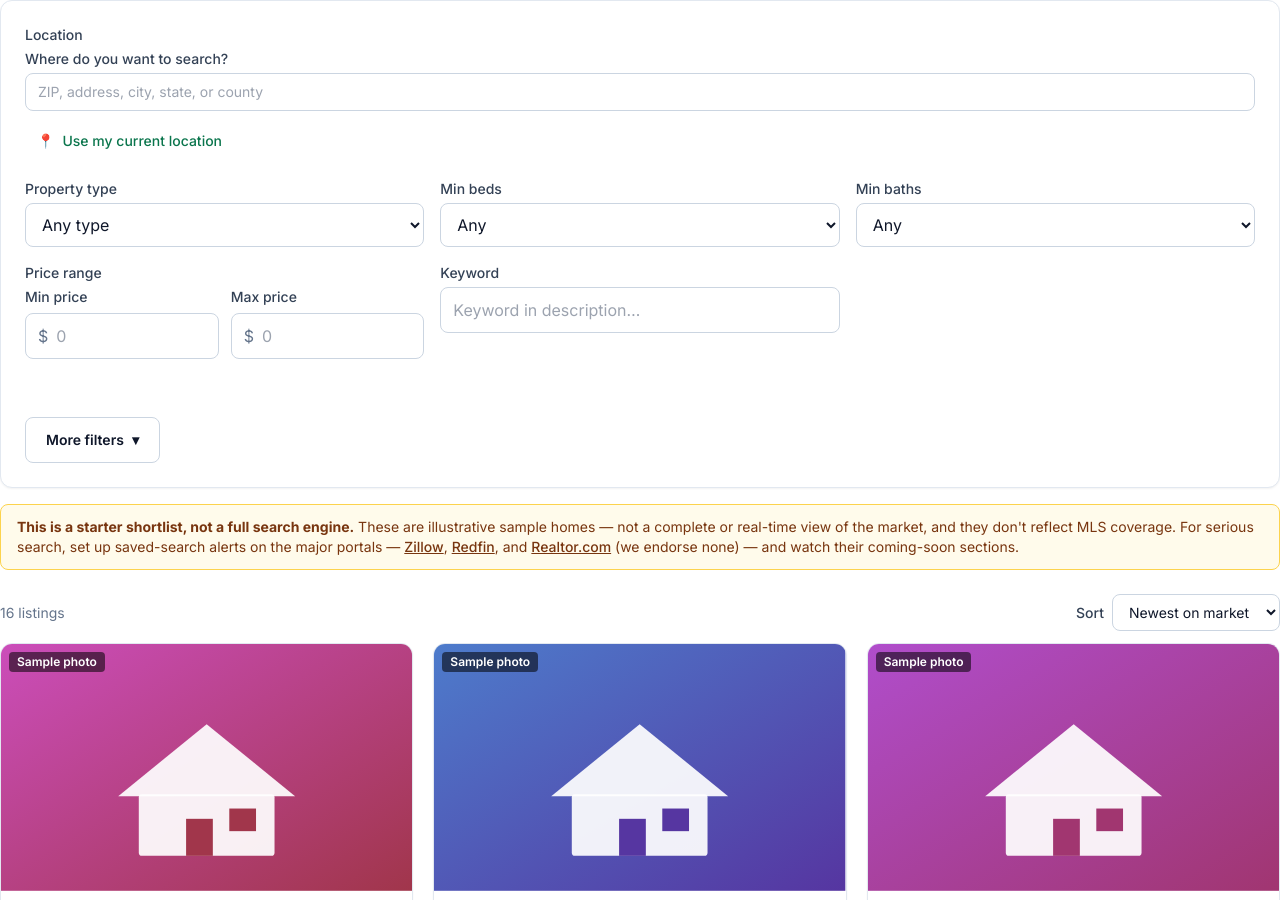
Test: ListingsBrowser › applying a sqft min narrows results and shows a removable chip
The image size is (1280, 900).
# Expand the collapsible "More filters" panel, then set a high sqft min.
Click the button "More filters ▾".
click(92, 440)  # box [25,417,160,463]
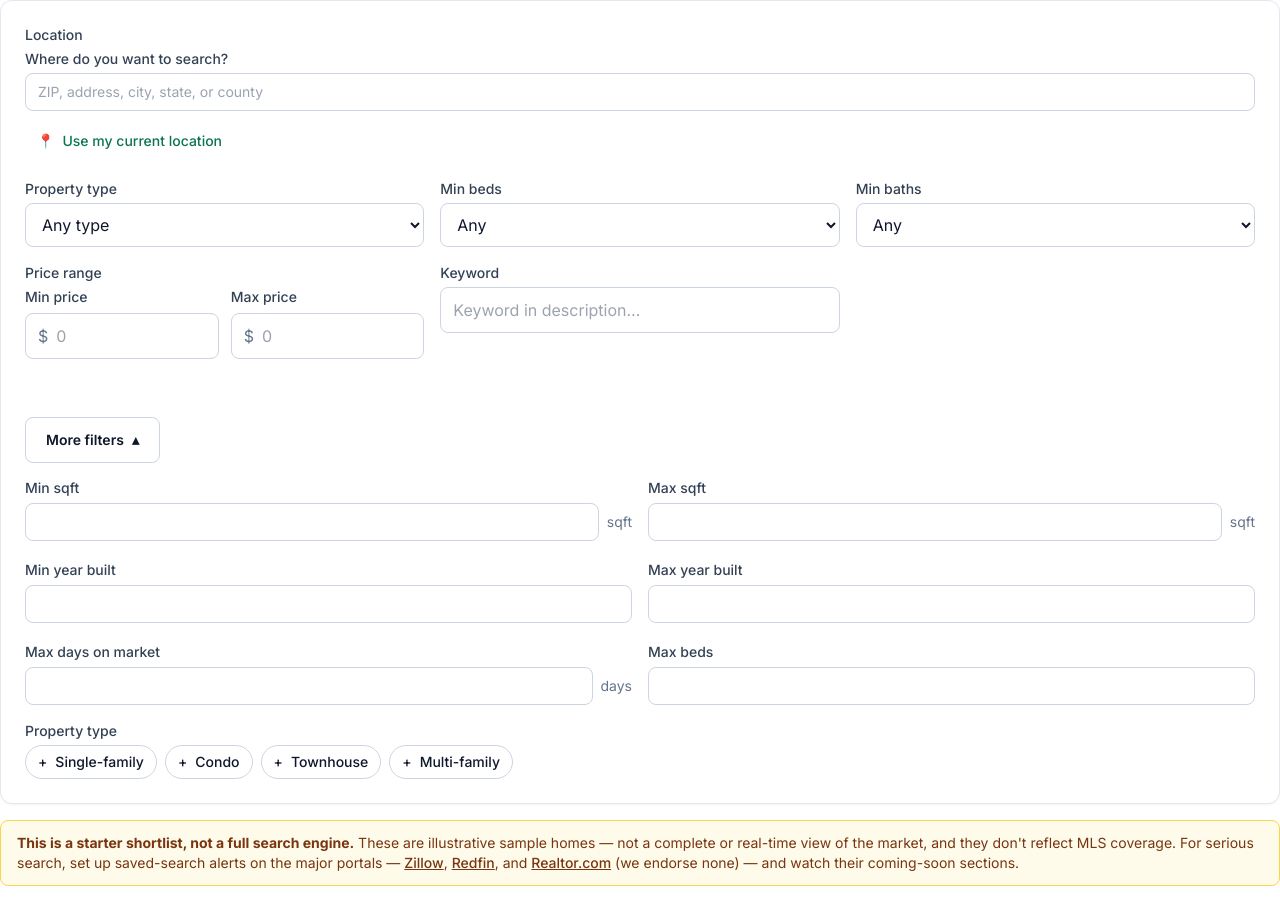
Type "2000" into the number field labelled "Min sqft".
click(312, 522); type("2000")  # box [25,503,599,541]
(page scrolled)
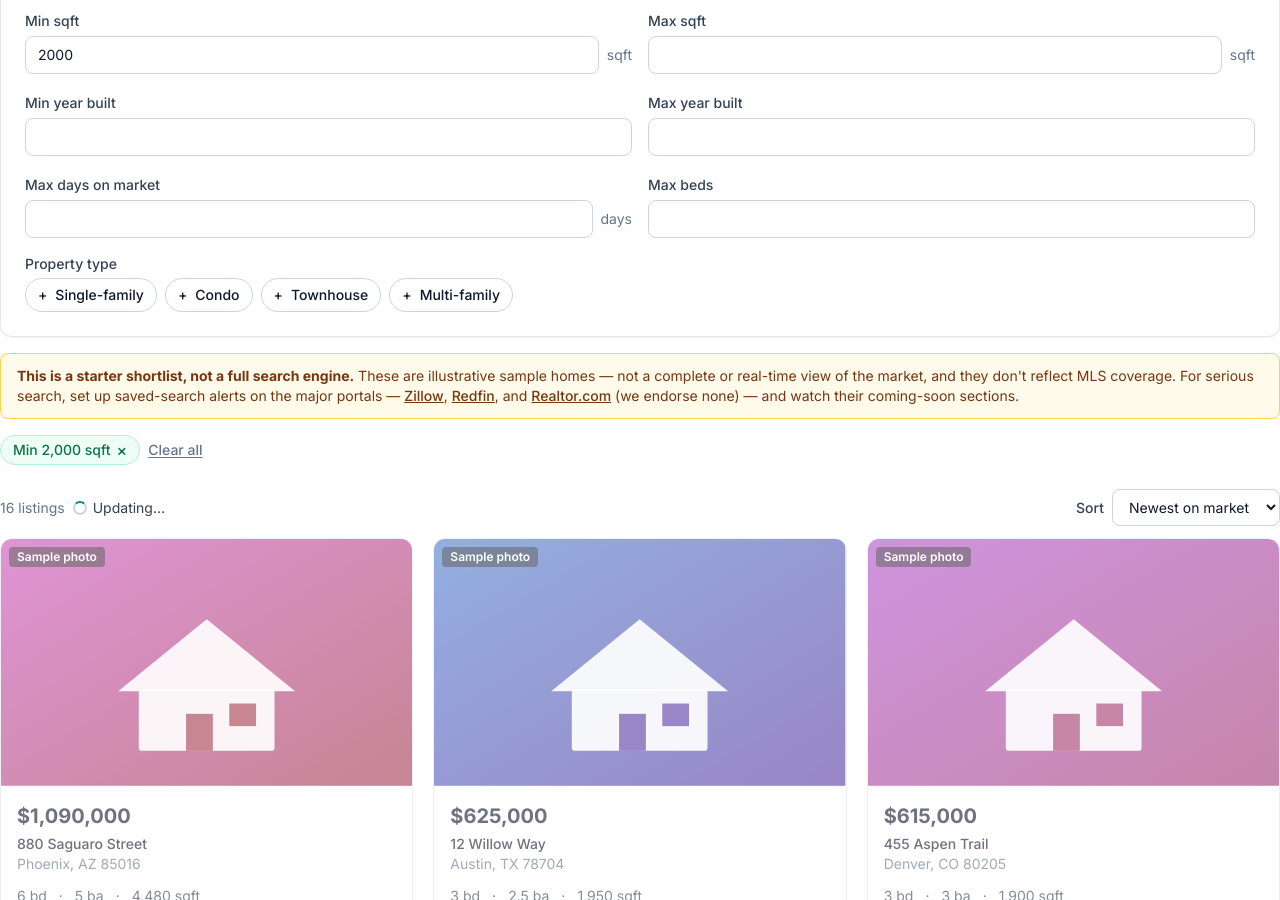
Expected: the text "Min 2,000 sqft" is shown, [13,440,111,460]
Click the button with aria-label "Remove Min 2,000 sqft".
click(70, 450)  # box [0,435,140,465]
(page scrolled)
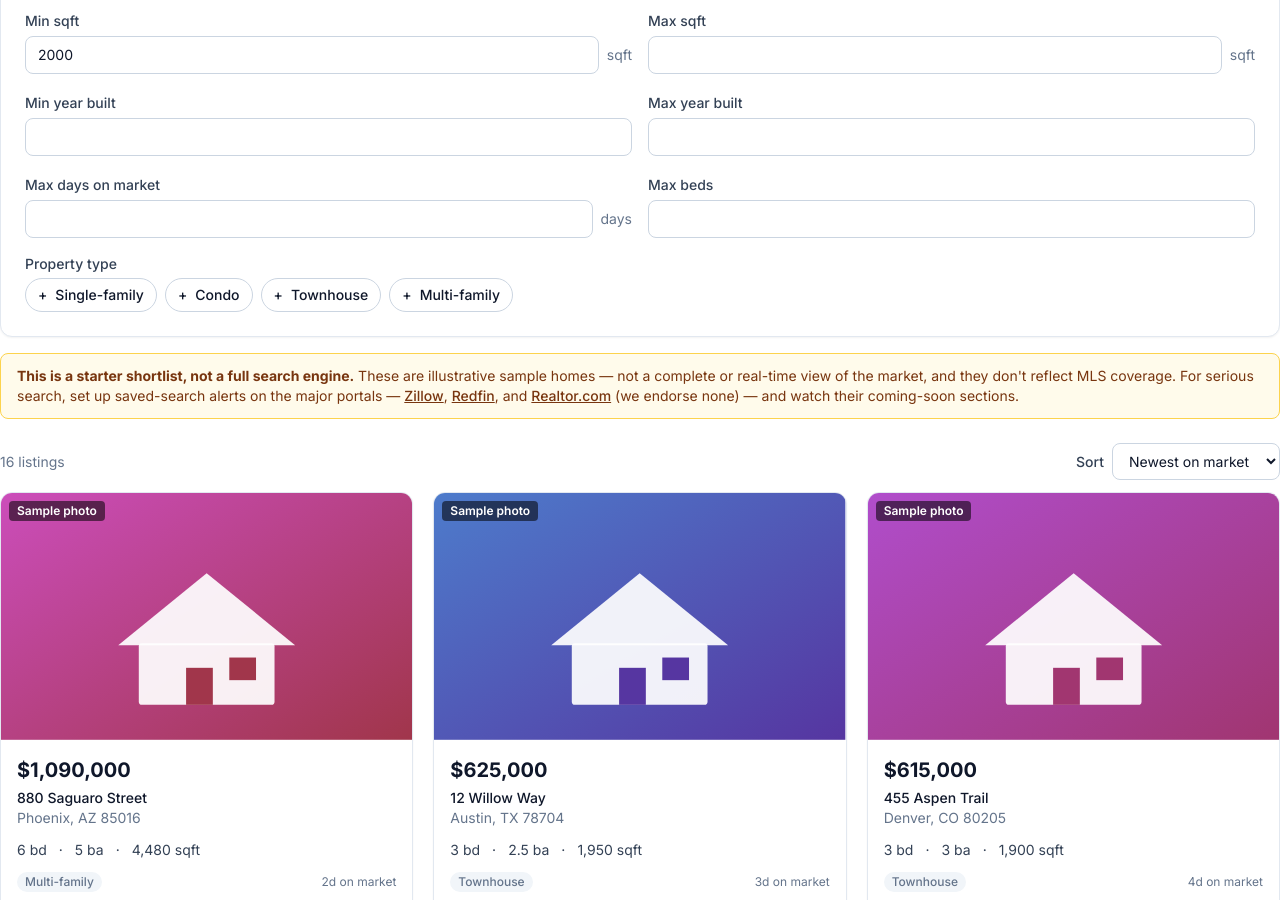
Expected: the button "Min 2,000 sqft" is gone
